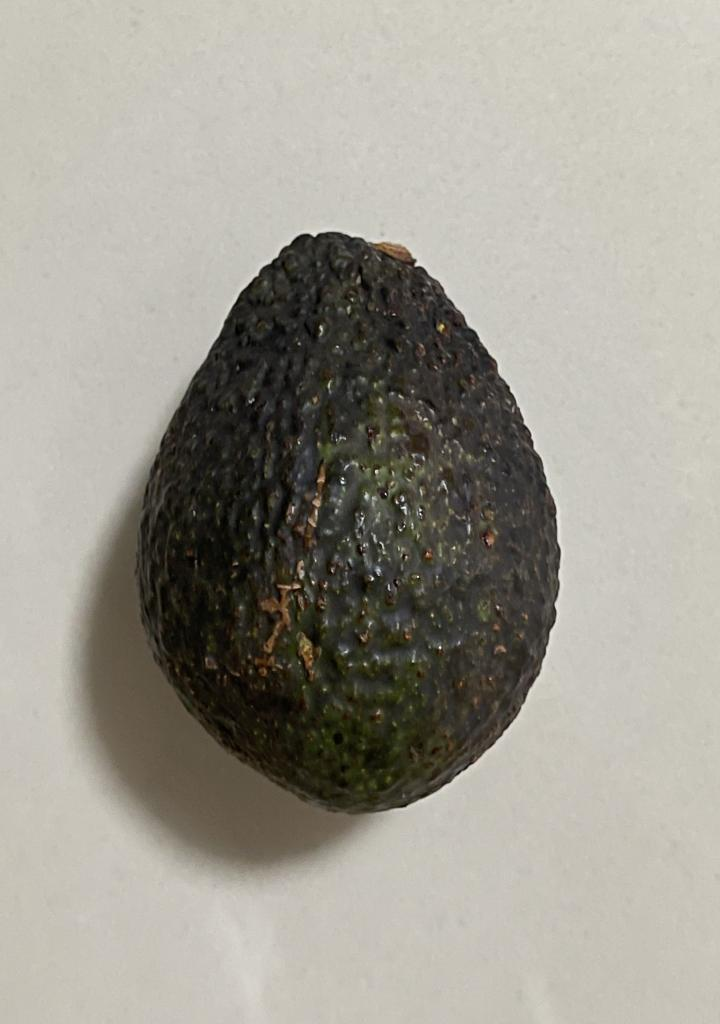Level1: (124, 213, 575, 830)
